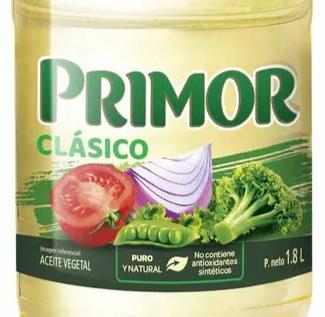brand: (25, 51, 305, 132)
extra_detail: (30, 128, 157, 167)
net_weight: (285, 245, 308, 267)
product_name: (24, 243, 96, 276)
